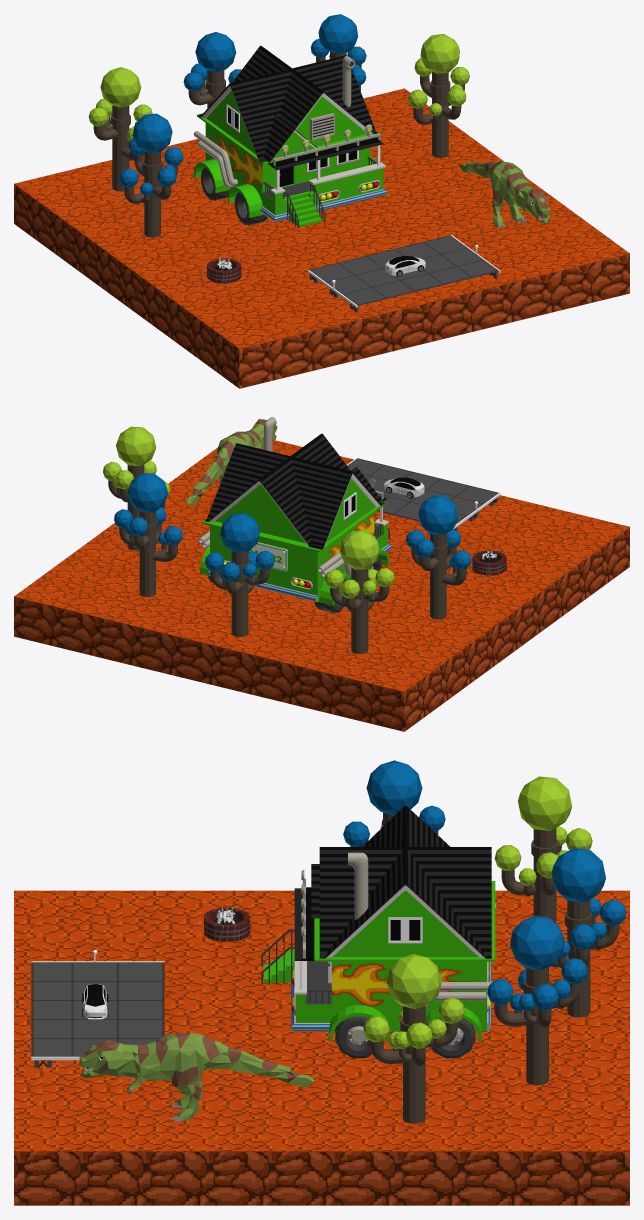
The picture shows the model from 3 angles, top to bottom: view 1: azimuth 30°, elevation 25°; view 2: azimuth 150°, elevation 25°; view 3: azimuth 270°, elevation 25°; orthographic projection. The views are drawn at different scales.
Visible parts, largest first — view 1: Cube.001, Cube.1474, ANIMAL_TREX, OBJRANDOM_CAMPFIRE, VEHICLES_TESLA; view 2: Cube.001, Cube.1474, ANIMAL_TREX, OBJRANDOM_CAMPFIRE, VEHICLES_TESLA; view 3: Cube.001, Cube.1474, ANIMAL_TREX, OBJRANDOM_CAMPFIRE, VEHICLES_TESLA.
Boxes of the visible parts, x1,y1,x2,y2 form: Cube.001: (14,14,629,388); Cube.1474: (193,45,387,228); ANIMAL_TREX: (459,161,550,228); OBJRANDOM_CAMPFIRE: (206,257,241,283); VEHICLES_TESLA: (385,256,425,276); Cube.001: (14,426,629,731); Cube.1474: (198,417,391,613); ANIMAL_TREX: (186,419,277,505); OBJRANDOM_CAMPFIRE: (472,550,506,575); VEHICLES_TESLA: (384,477,424,498); Cube.001: (14,760,629,1205); Cube.1474: (261,806,496,1058); ANIMAL_TREX: (79,1033,314,1121); OBJRANDOM_CAMPFIRE: (204,905,249,941); VEHICLES_TESLA: (82,984,108,1019).
Size of the model in its own units: 4000 by 1861 by 4000.
Materials: 38 (5 with a texture image).
